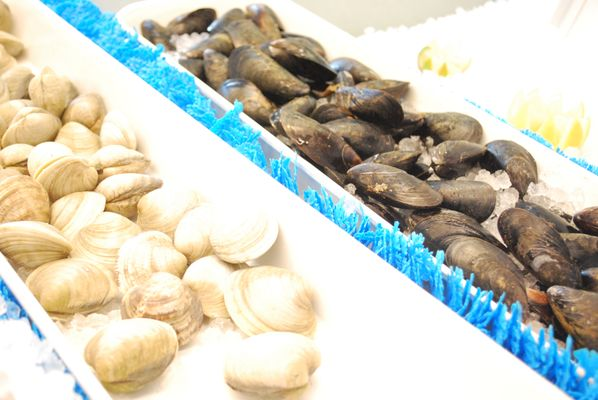salad: (572, 205, 598, 237)
